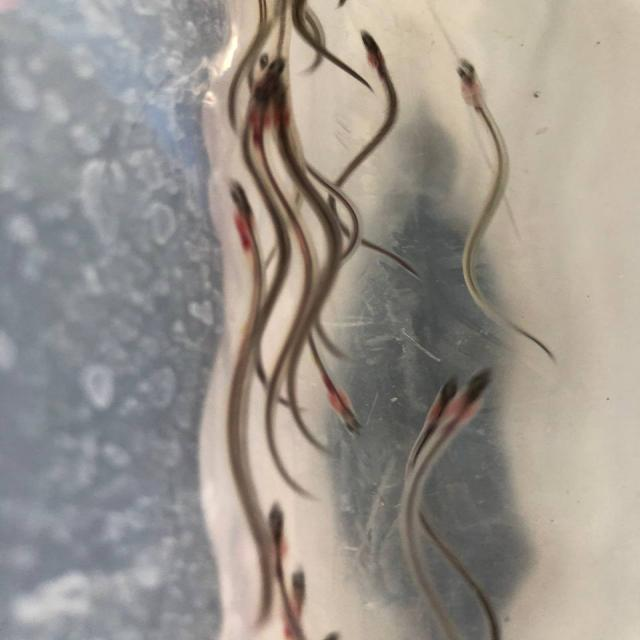glass_eel: (220, 174, 270, 252), (269, 559, 315, 640), (442, 54, 499, 119), (451, 361, 506, 428), (320, 381, 375, 444), (243, 51, 297, 107), (412, 375, 459, 434), (253, 495, 294, 556), (355, 30, 397, 87)
